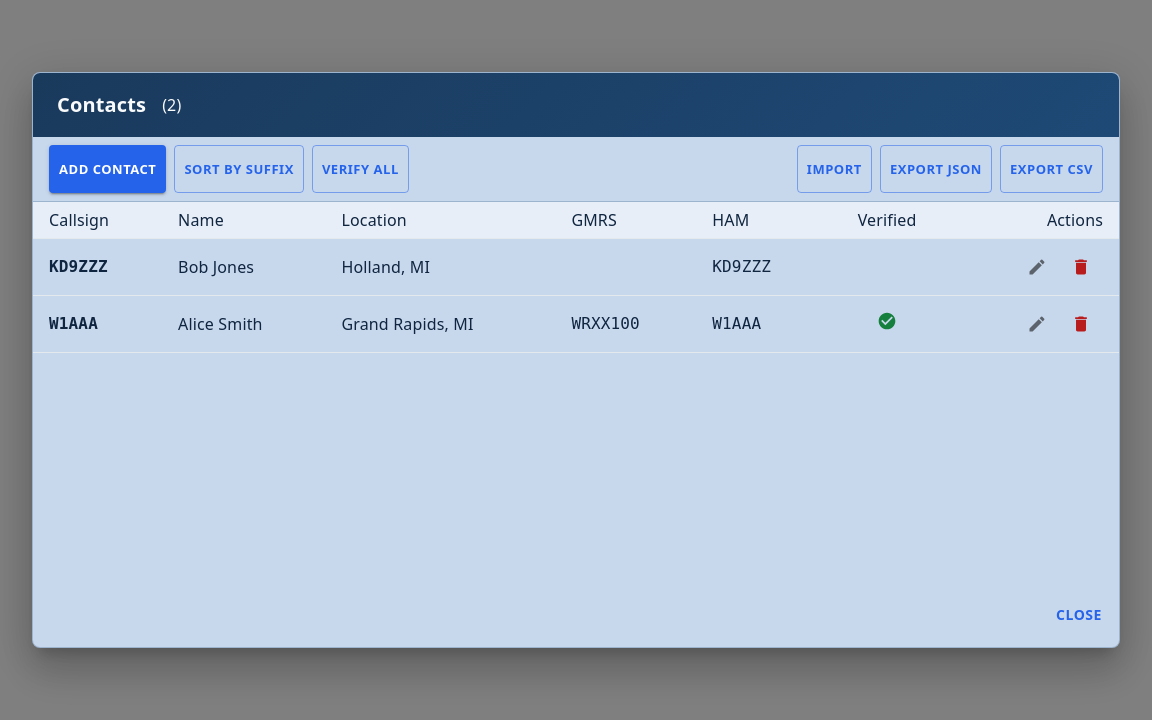
Test: ContactsDialog › Add Contact dialog › opens add dialog when Add Contact clicked
Click the button "Add Contact": (108, 169) 49,145 -> 166,193
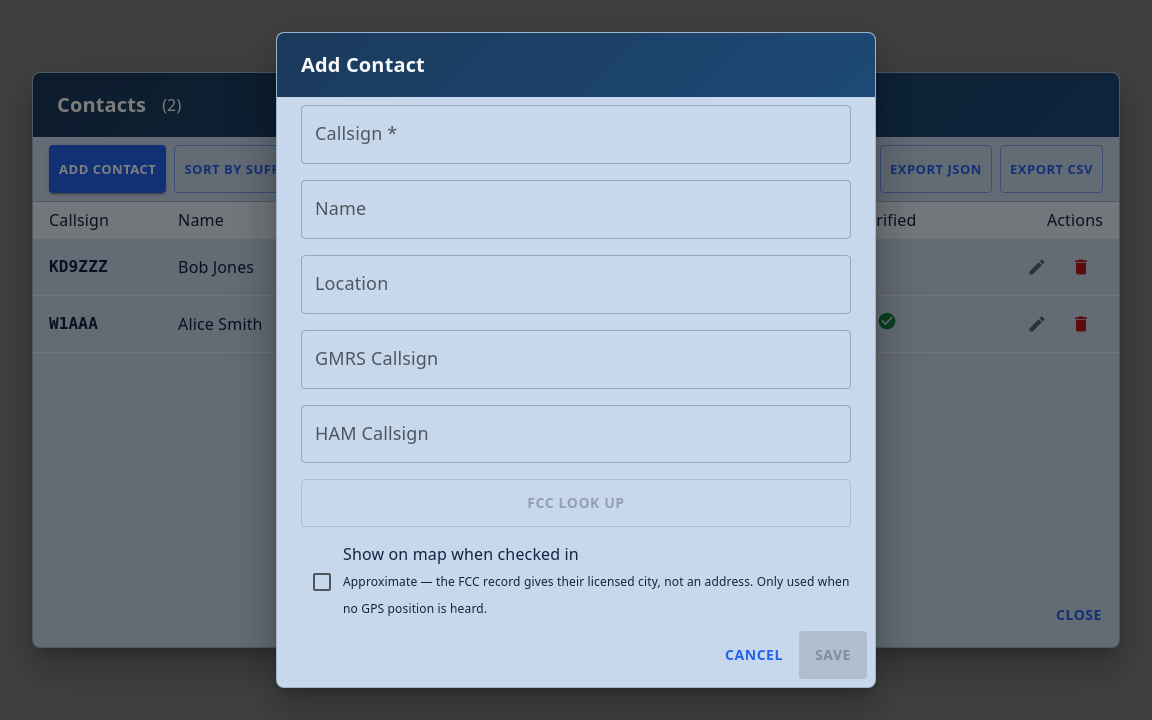
Expected: the heading "Add Contact" is shown, 277,33 -> 875,97
